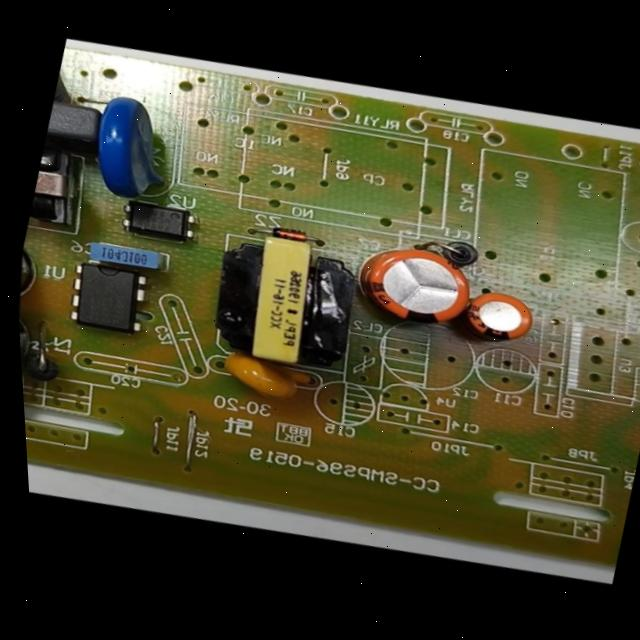Cap1: (335, 219, 493, 350)
Cap2: (444, 274, 558, 359)
Cap4: (18, 298, 78, 404)
MOSFET: (46, 246, 165, 348)
Mov: (62, 78, 199, 218)
Resistor: (49, 47, 90, 108)
Transformer: (182, 209, 388, 395), (21, 134, 102, 242)
